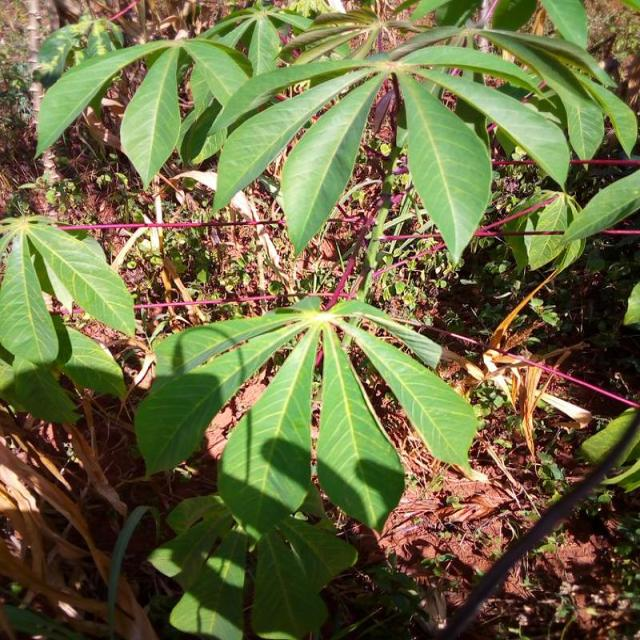cassava leaf: (135, 291, 479, 545), (216, 321, 319, 543), (279, 65, 386, 257), (393, 64, 492, 269), (315, 319, 405, 534), (118, 44, 181, 190)
